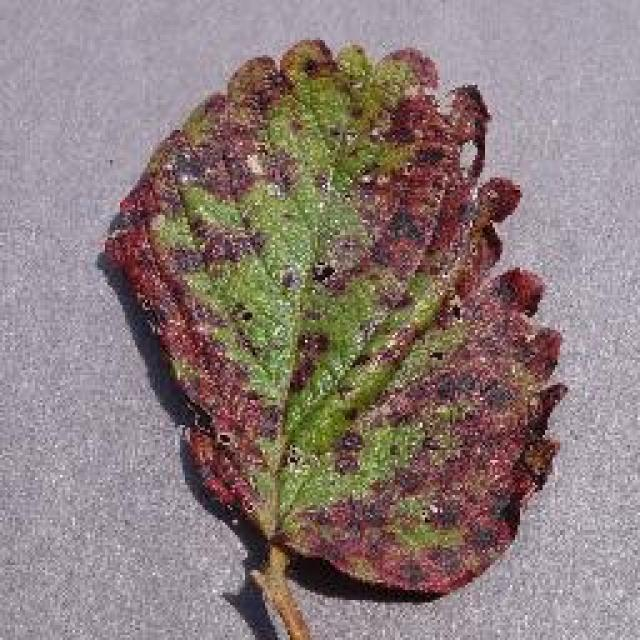Strawberry___Leaf_scorch: (128, 66, 537, 544)
